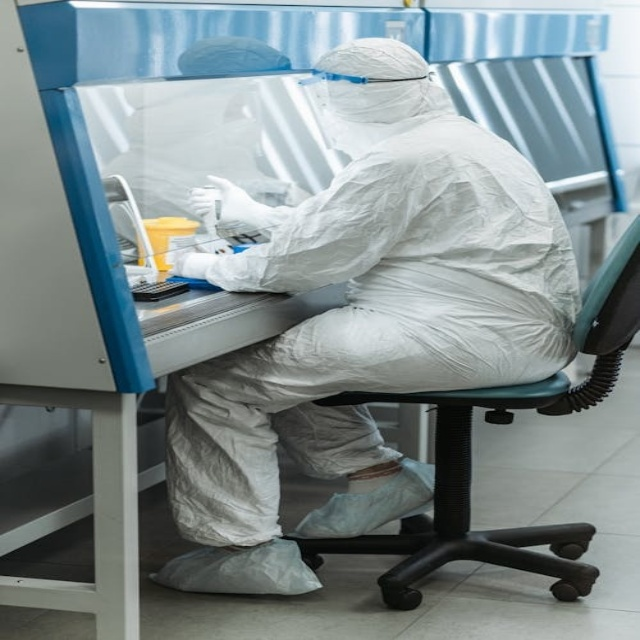Guantes: (192, 174, 280, 230), (167, 251, 223, 281)
